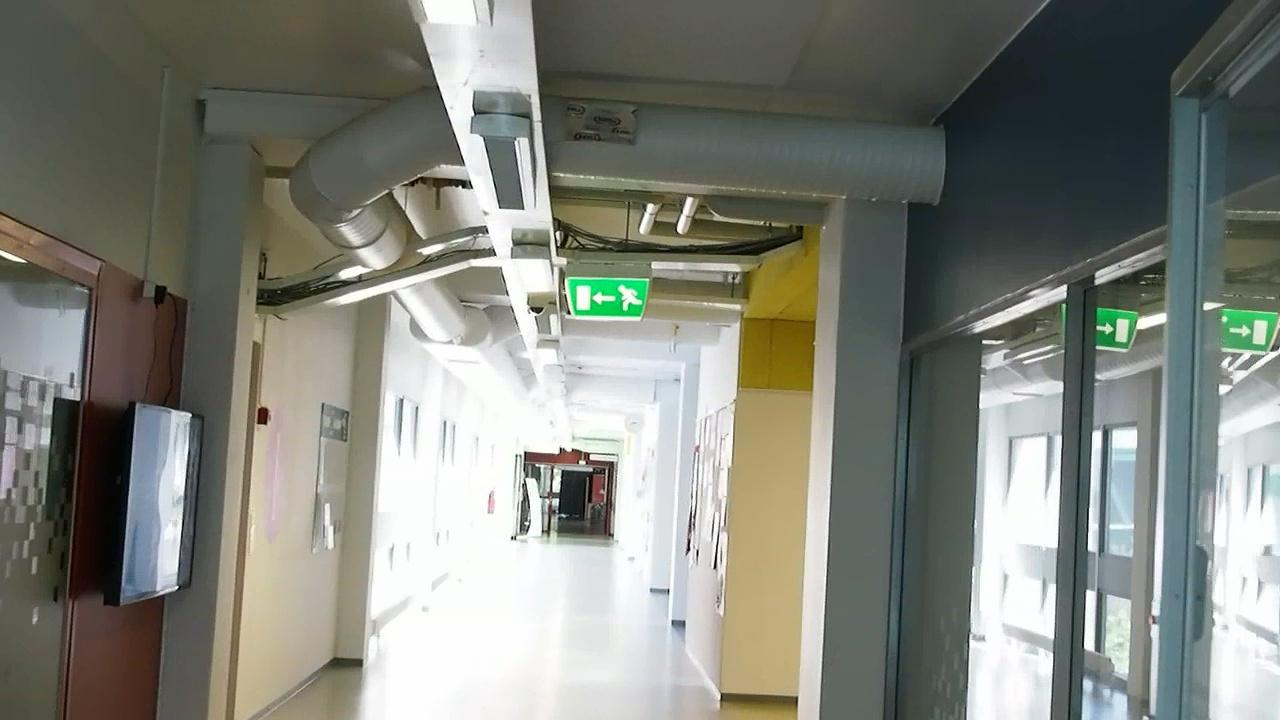exit: (566, 275, 651, 325)
